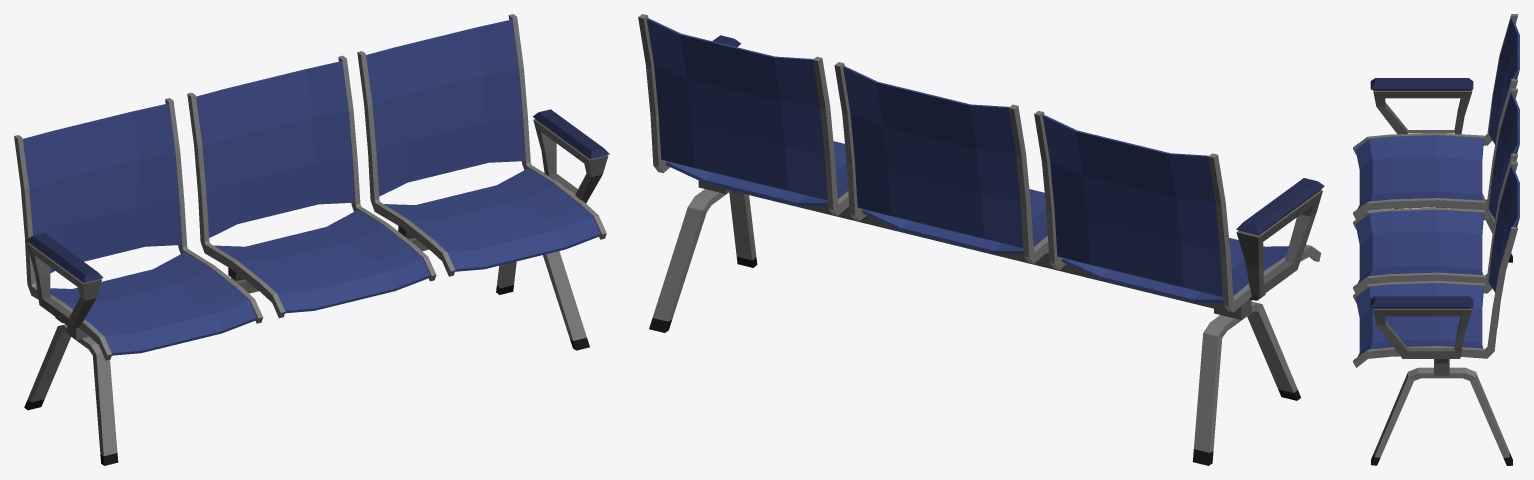
Rendered from ReceptionBenchPD.glb.
3 renders of one model, left to right at view 1: azimuth 30°, elevation 25°; view 2: azimuth 150°, elevation 25°; view 3: azimuth 270°, elevation 25°, orthographic. The views are drawn at different scales.
Visible parts, largest first — view 1: receptionBench; view 2: receptionBench; view 3: receptionBench.
Boxes of the visible parts, x1=… form: receptionBench: x1=14, y1=14, x2=609, y2=465; receptionBench: x1=638, y1=14, x2=1324, y2=465; receptionBench: x1=1353, y1=14, x2=1519, y2=465.
Bounding box in the file's own units: 1.97 × 0.9726 × 0.613.
1 material, 1 textured.
